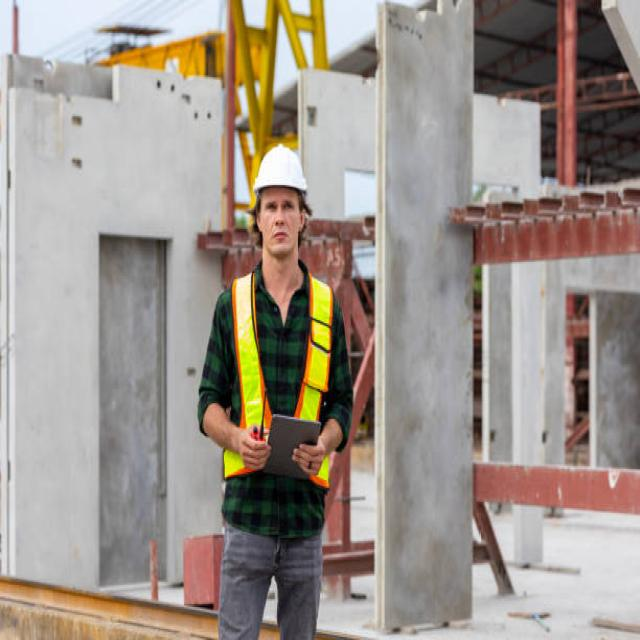without_helmet: (258, 185, 306, 254)
